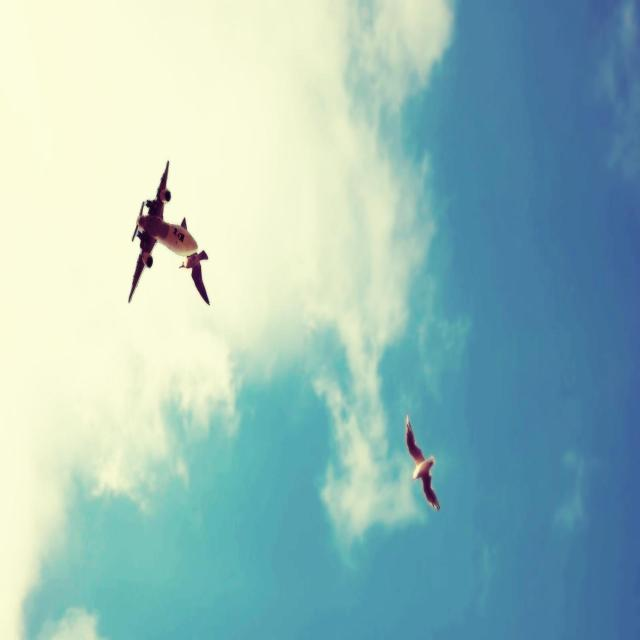airplane: (128, 159, 198, 306)
